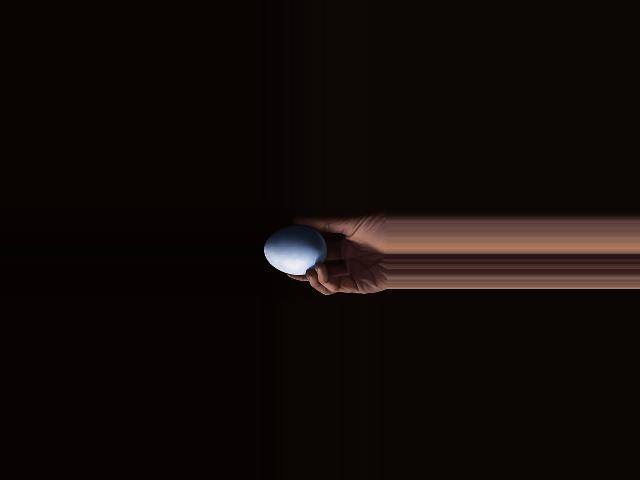egg: (263, 226, 326, 276)
